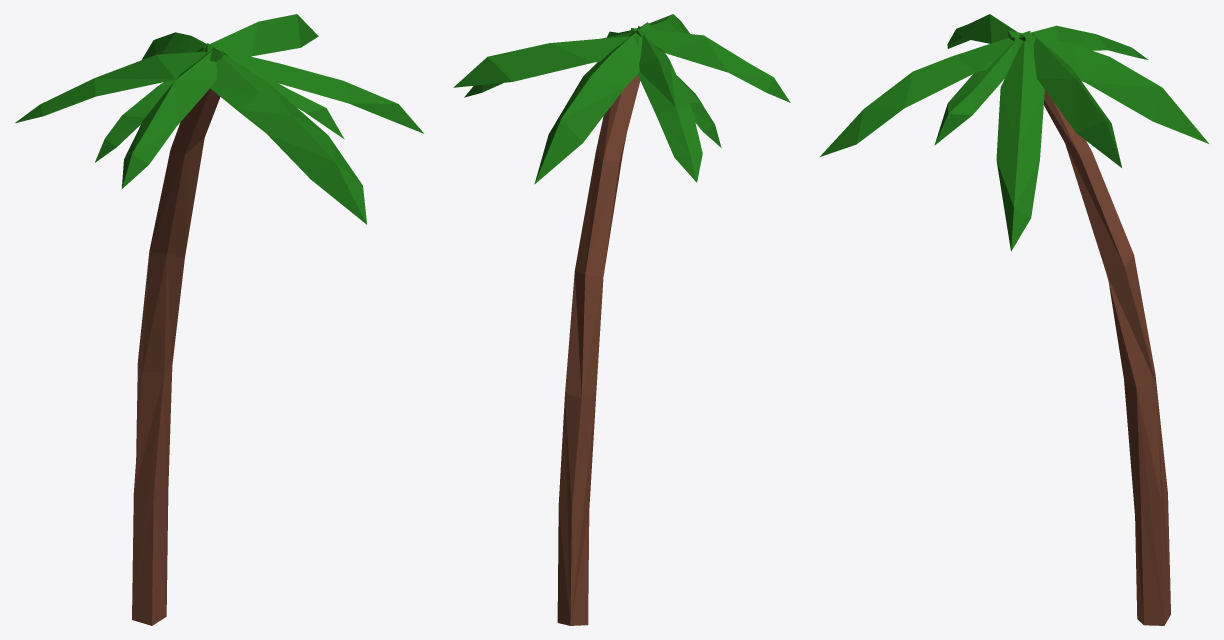
Rendered from Tree_09_summer_vc.fbx.
3 renders of one model, left to right at view 1: azimuth 30°, elevation 25°; view 2: azimuth 150°, elevation 25°; view 3: azimuth 270°, elevation 25°, orthographic. The views are drawn at different scales.
Parts seen in each view (by area): view 1: Tree_09_summer_vc; view 2: Tree_09_summer_vc; view 3: Tree_09_summer_vc.
Part boxes in pixels (x1,y1,x2,y2): Tree_09_summer_vc: [15, 14, 423, 625]; Tree_09_summer_vc: [453, 14, 790, 625]; Tree_09_summer_vc: [820, 14, 1208, 625].
Size of the model in its own units: 334 by 592 by 356.
